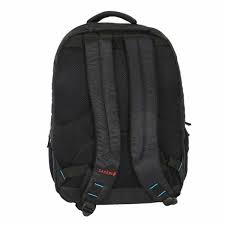backpack: (46, 10, 191, 216)
